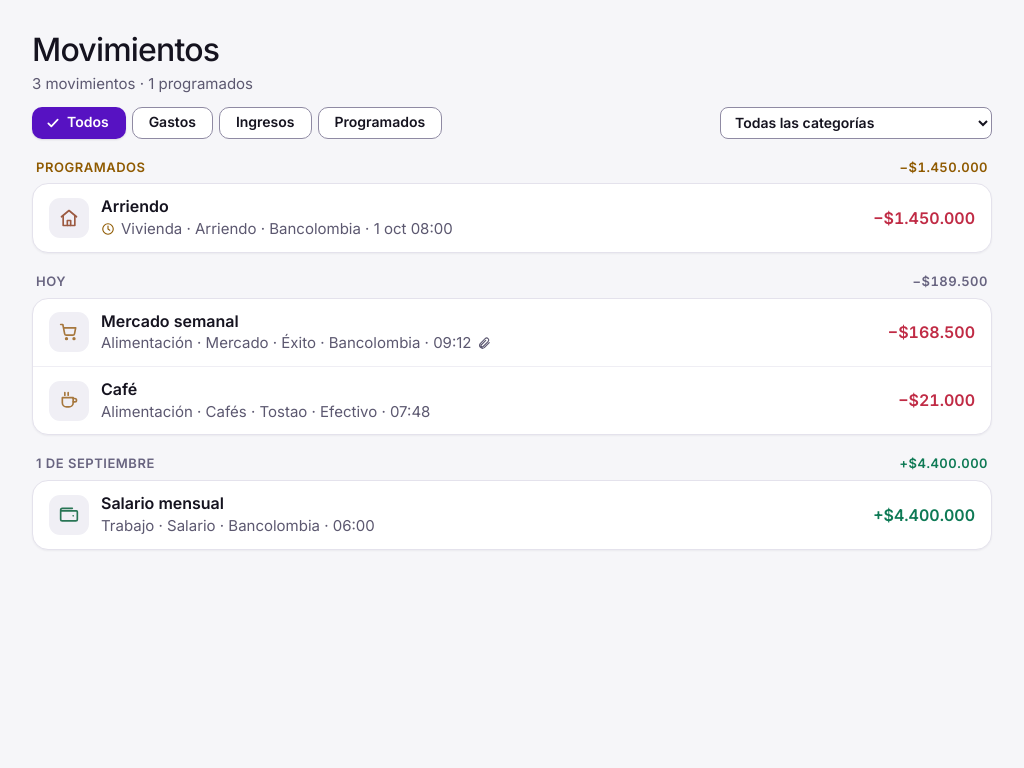
Test: MovimientosPage › asks the two-step confirmation before deleting a movement with a receipt
The image size is (1024, 768).
Click the text "Mercado semanal": (170,321) [101,311,239,331]
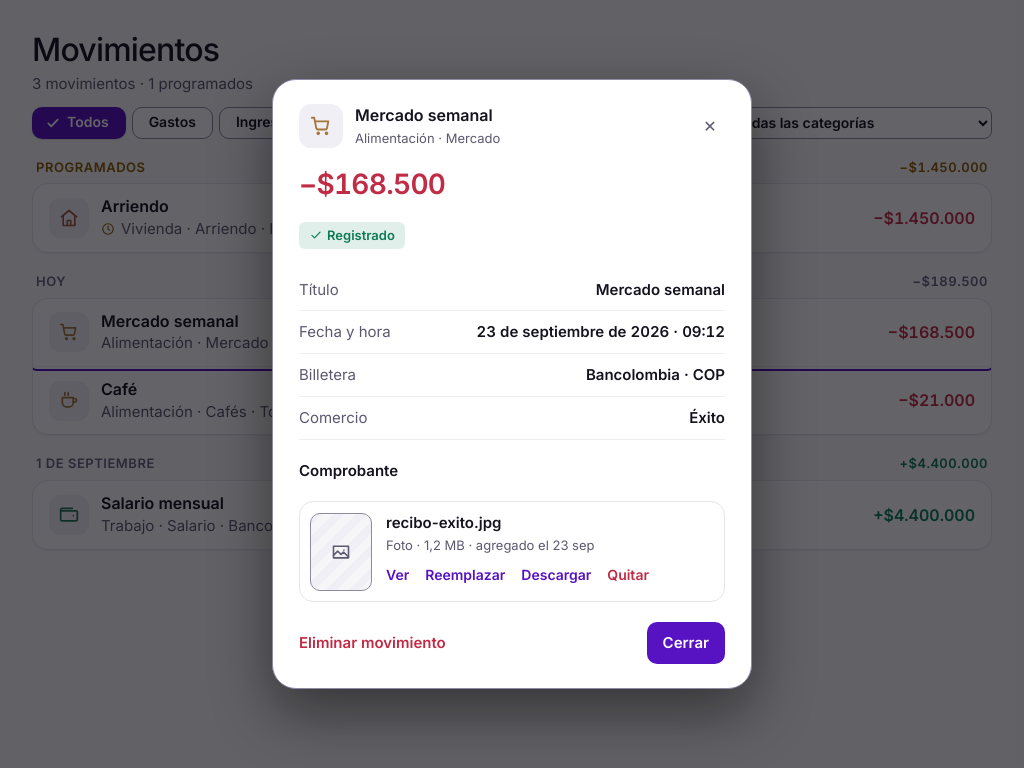
expect the text "recibo-exito.jpg" is shown: met, box [386,513,501,532]
expect the text "Foto · 1,2 MB · agregado el 23 sep" is shown: met, box [386,537,594,553]
Click the button "Eliminar movimiento": (372,643) [299,627,446,659]
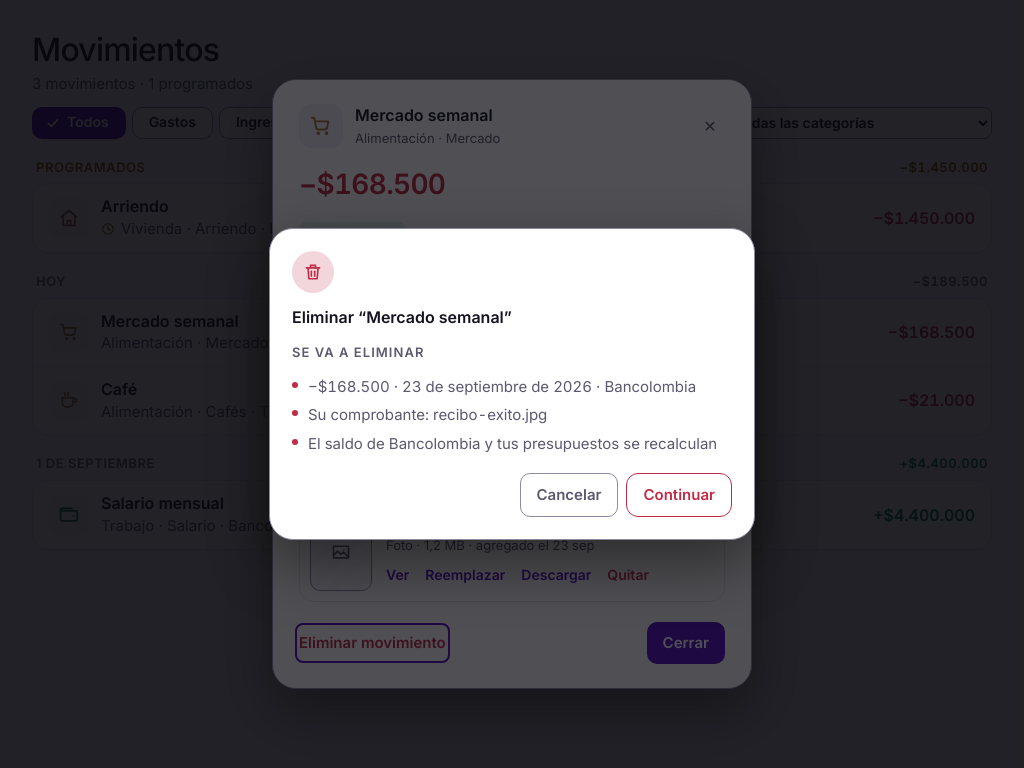
expect the dialog "Eliminar “Mercado semanal”" shows "Su comprobante: recibo-exito.jpg": met, box [308,406,547,424]
